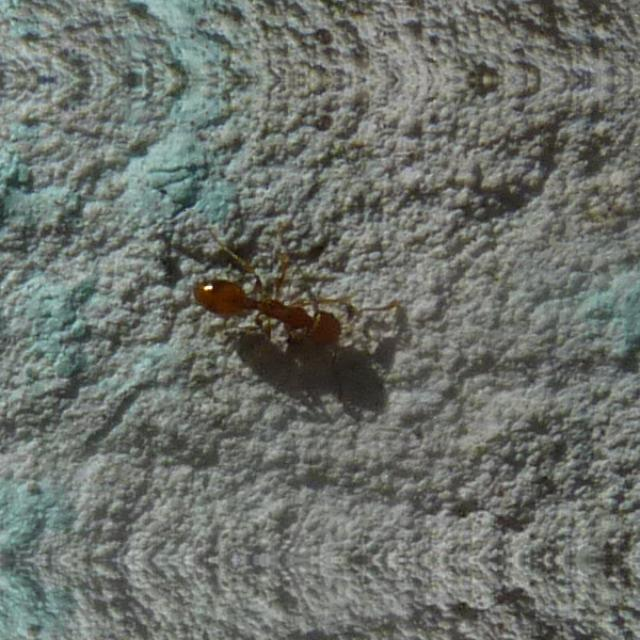Temnothorax: (170, 246, 390, 366)
